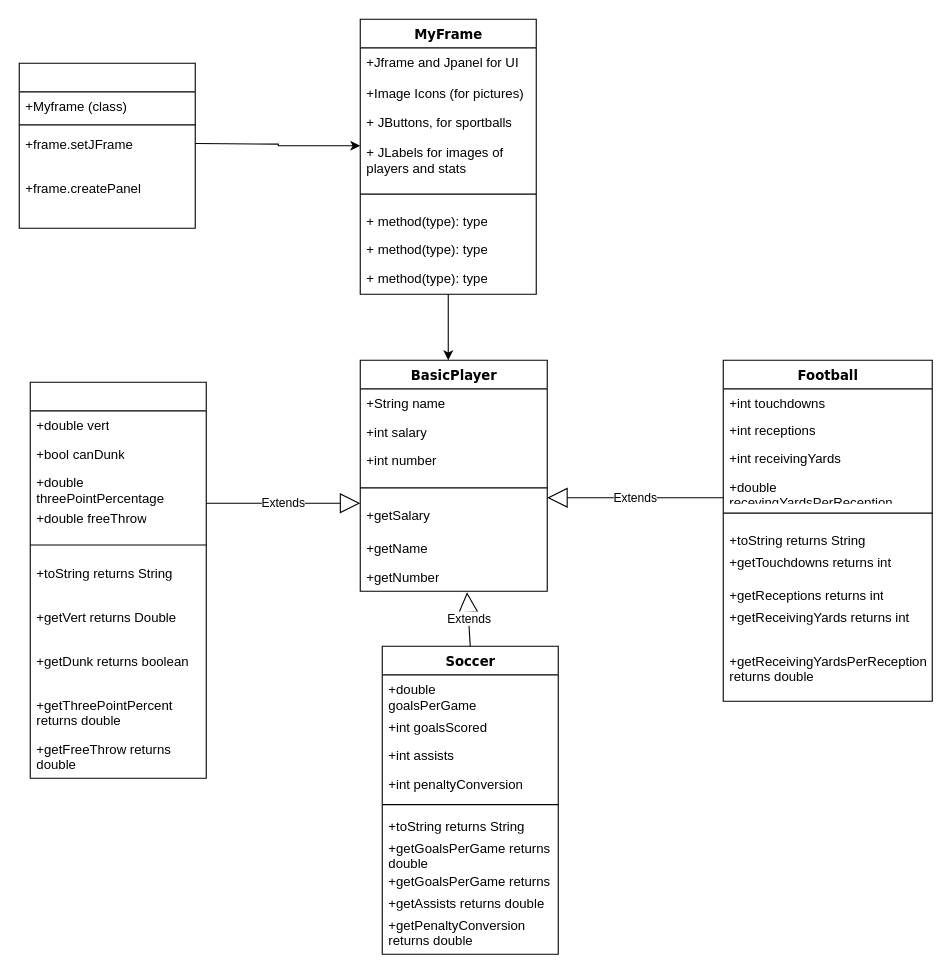
Image size: 952x974. Some labels were removed from this diagram. Here are the shapes that lost their labels. From the top down, the box of each, then its label:
(18, 62, 195, 228): Main
(29, 381, 206, 778): Basketball
